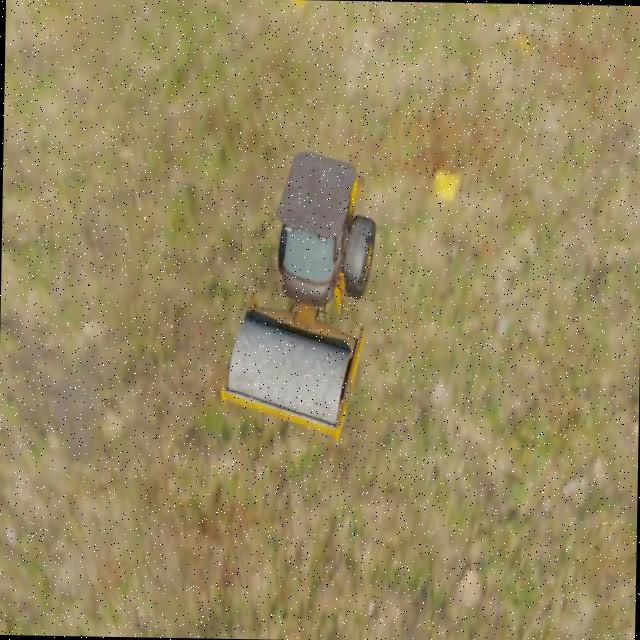Roller: (220, 149, 377, 442)
